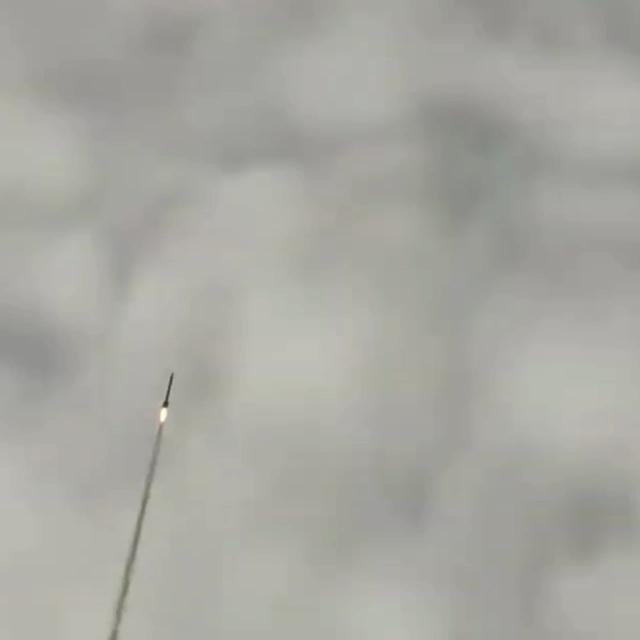smoke_trail_with_rocket: (105, 372, 175, 640)
